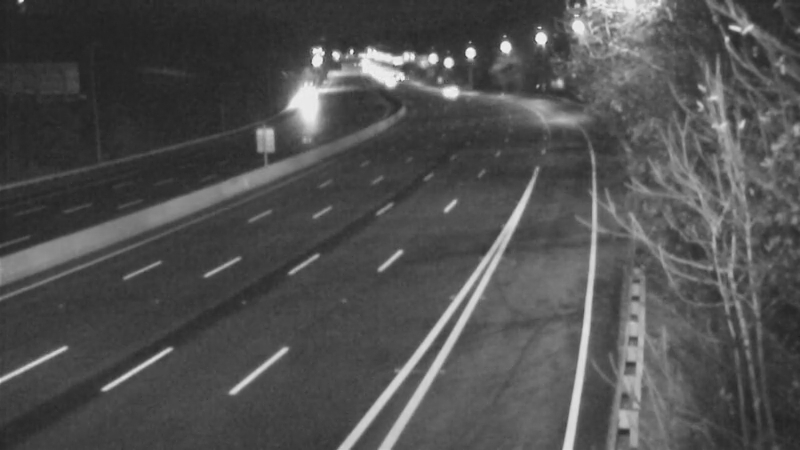vehicle: (426, 64, 476, 114)
